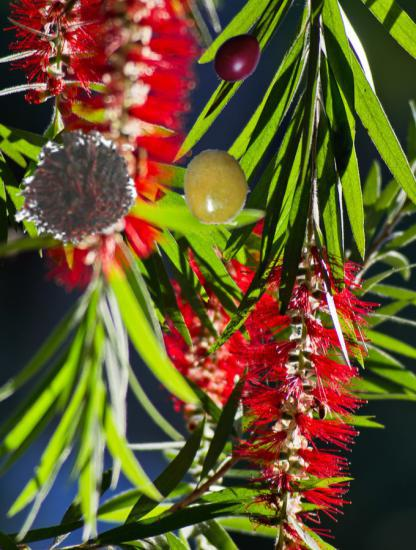Maracuja: (177, 149, 254, 226)
Rambutan: (8, 124, 138, 254)
Tamarillo: (207, 30, 266, 89)
